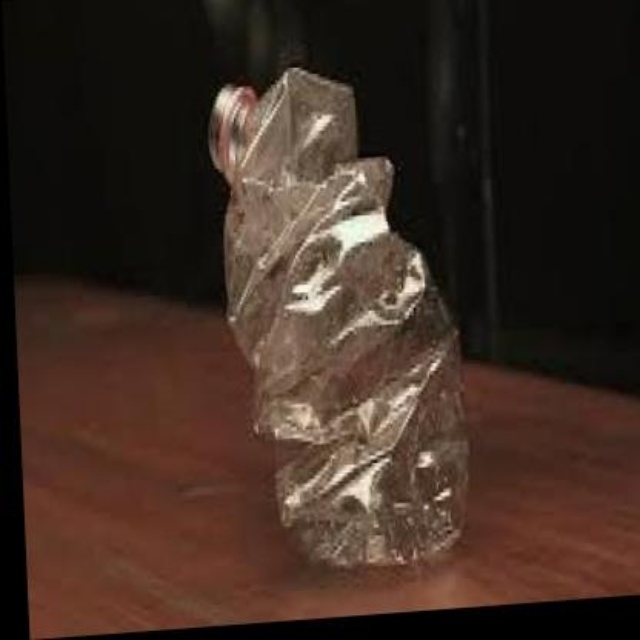trash: (209, 68, 466, 566)
